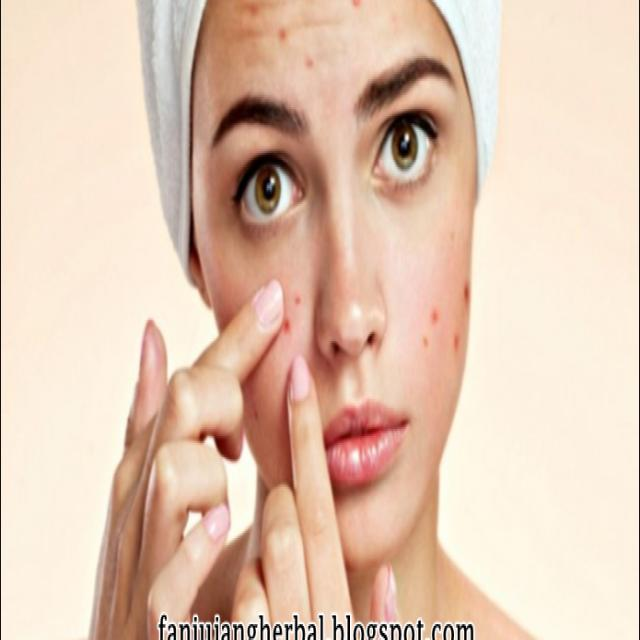Acne: (240, 0, 368, 76), (416, 269, 472, 367), (266, 275, 308, 348)
